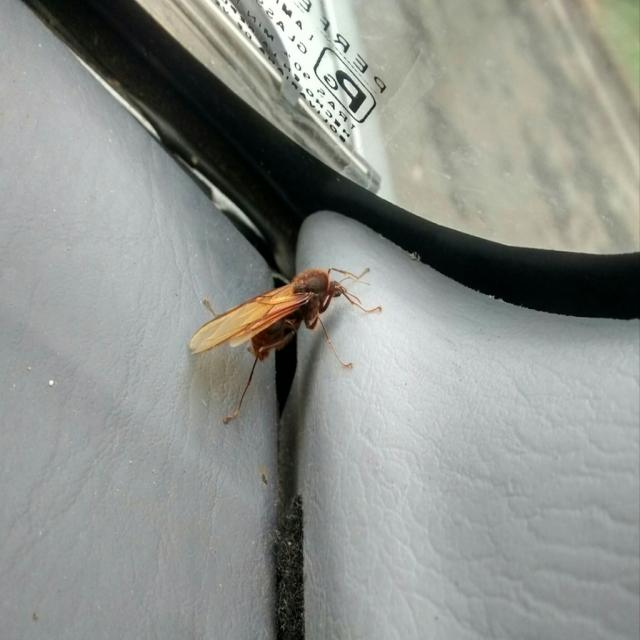Alive-Male-Alate: (189, 268, 382, 424)
